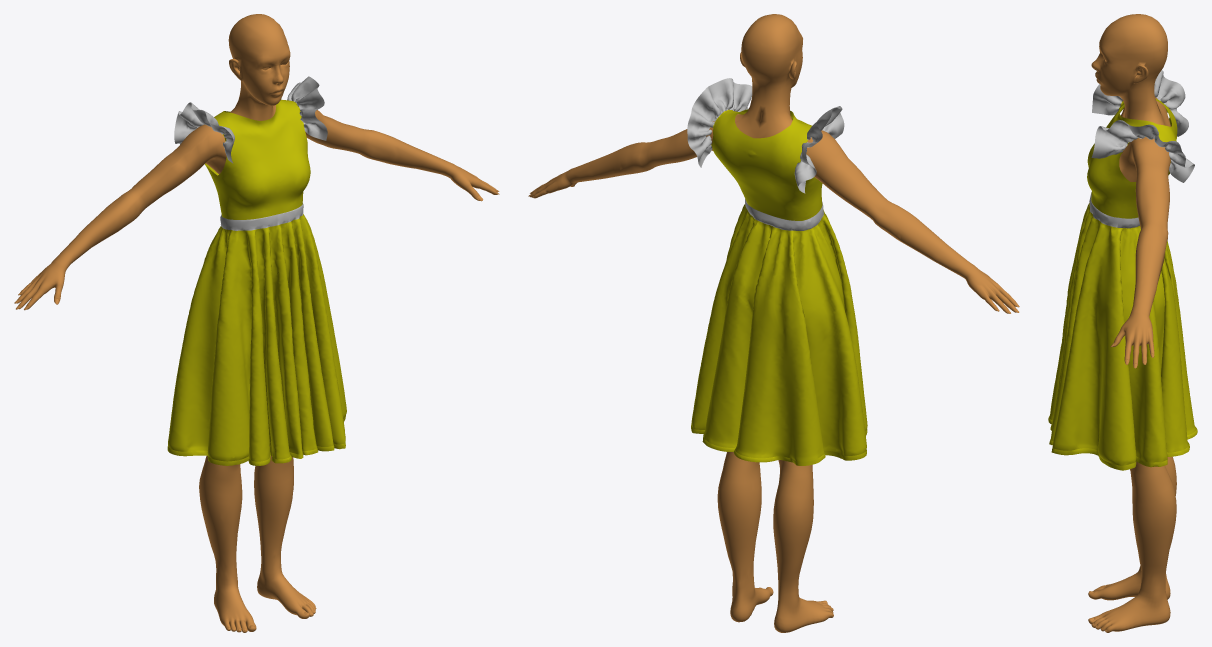
The model's file is dress10.glb.
The picture shows the model from 3 angles, left to right: view 1: azimuth 30°, elevation 25°; view 2: azimuth 150°, elevation 25°; view 3: azimuth 270°, elevation 25°; orthographic projection.
Visible parts, largest first — view 1: PinkDrees#14 (OBJ), Body; view 2: PinkDrees#14 (OBJ), Body; view 3: PinkDrees#14 (OBJ), Body.
Part boxes in pixels (x1,y1,x2,y2): PinkDrees#14 (OBJ): (167,76,346,465); Body: (17,14,498,632); PinkDrees#14 (OBJ): (687,78,867,465); Body: (529,14,1016,632); PinkDrees#14 (OBJ): (1048,70,1197,470); Body: (1088,14,1176,632).
Size of the model in its own units: 1.58 by 1.85 by 0.4187.
